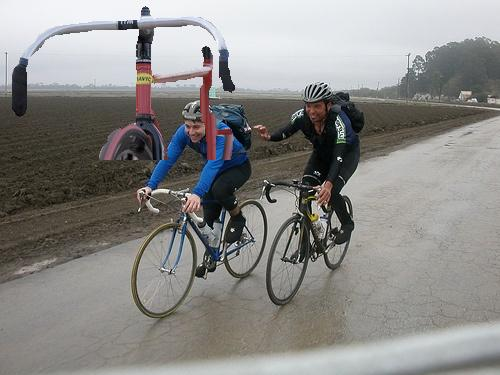tampered: (13, 7, 235, 160)
